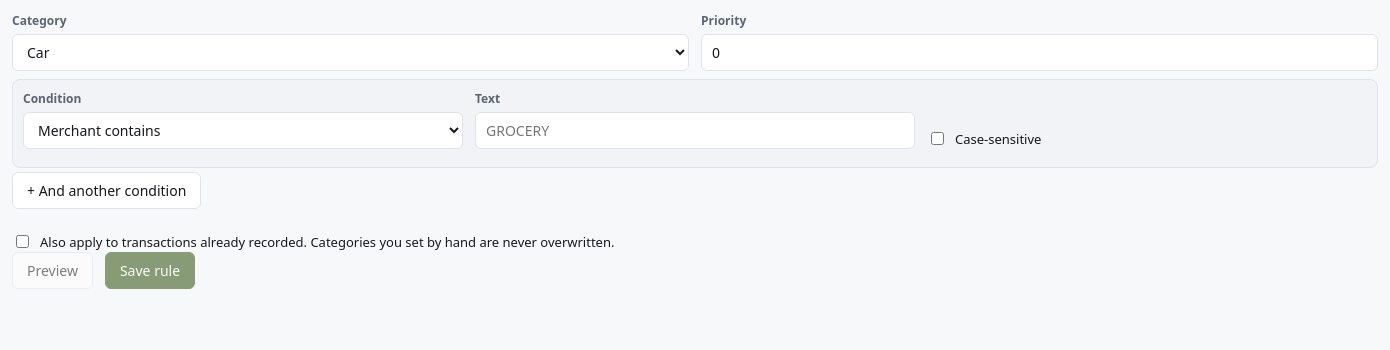
errors from the server › puts an issue on the field its path names
Select "Amount is in a range" in the dropdown labelled "Condition": [243, 130] box [23,112,463,149]
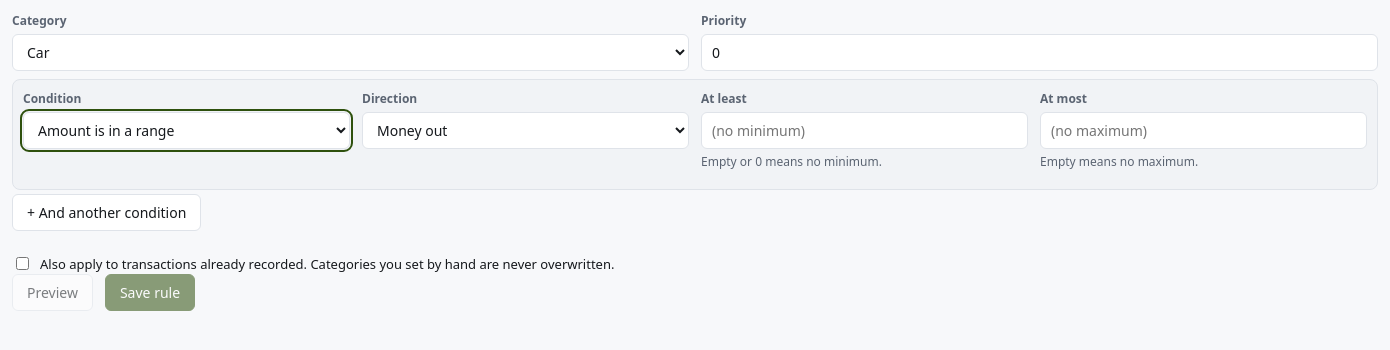
In the field labelled "At most": [1204, 130] box [1040,112,1367,149], type "5"
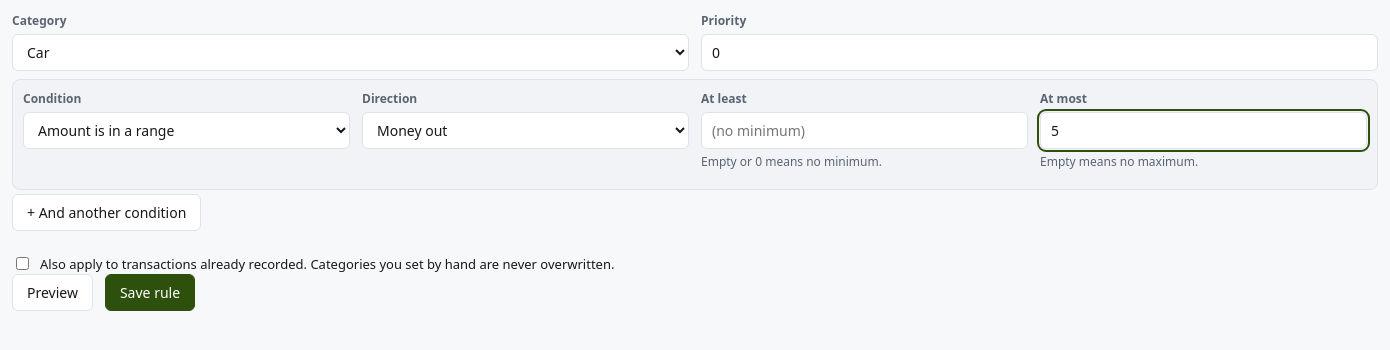
Click the button "Save rule": [150, 292] box [105,274,195,311]
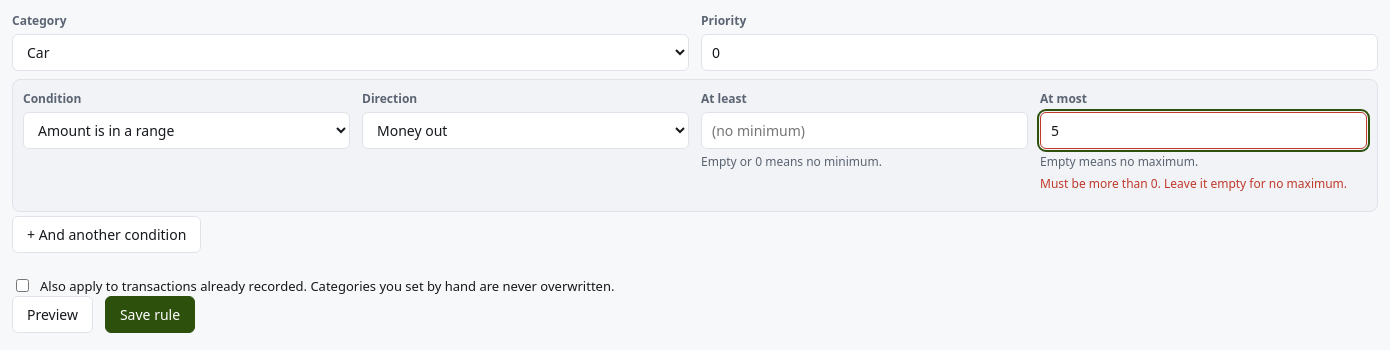
Result: the text "Must be more than 0. Leave it empty for no maximum." is shown at [1040,175,1367,193]
